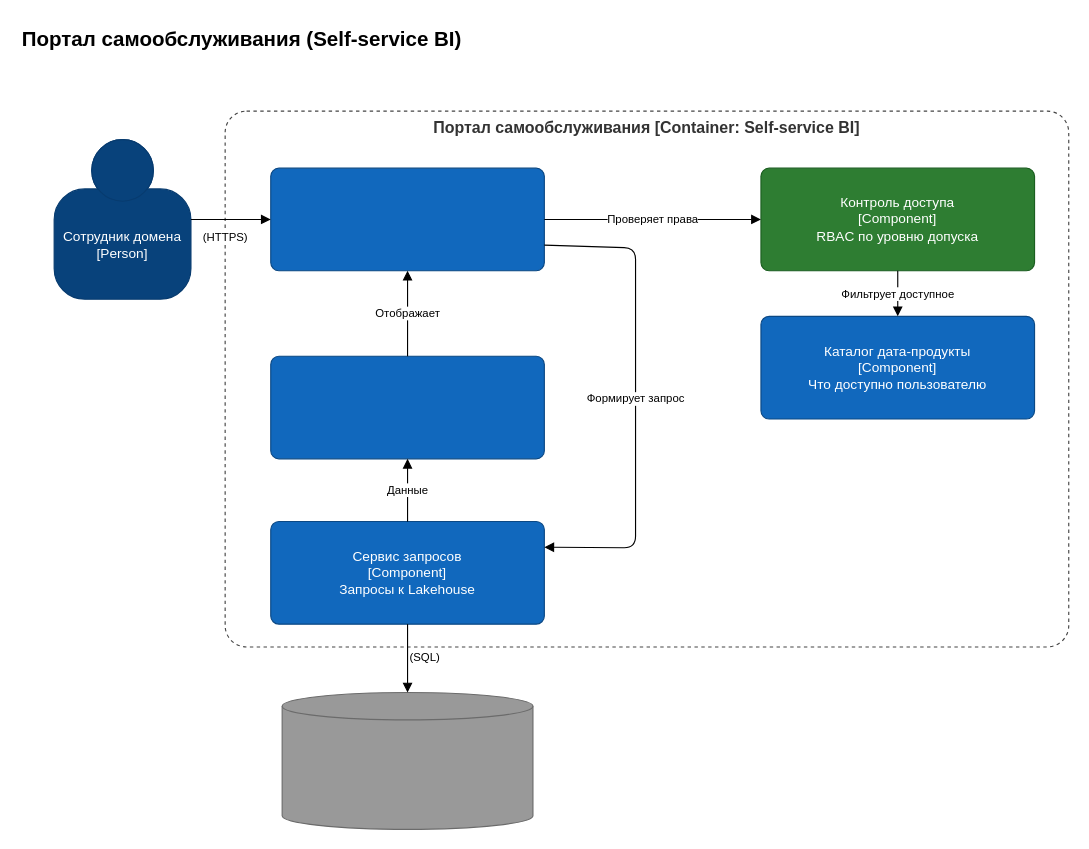
This 1089x849 diagram has some shape labels left out. The shapes that lost their labels are listed below. From the top down, each one's centre as x and y in pixels, then its label:
At (407,219): "Web UI [Component: React] Конструктор отчётов".
At (407,407): "Сборка отчётов [Component] Рендер дашбордов".
At (407,760): "Data Lakehouse [Container]".
